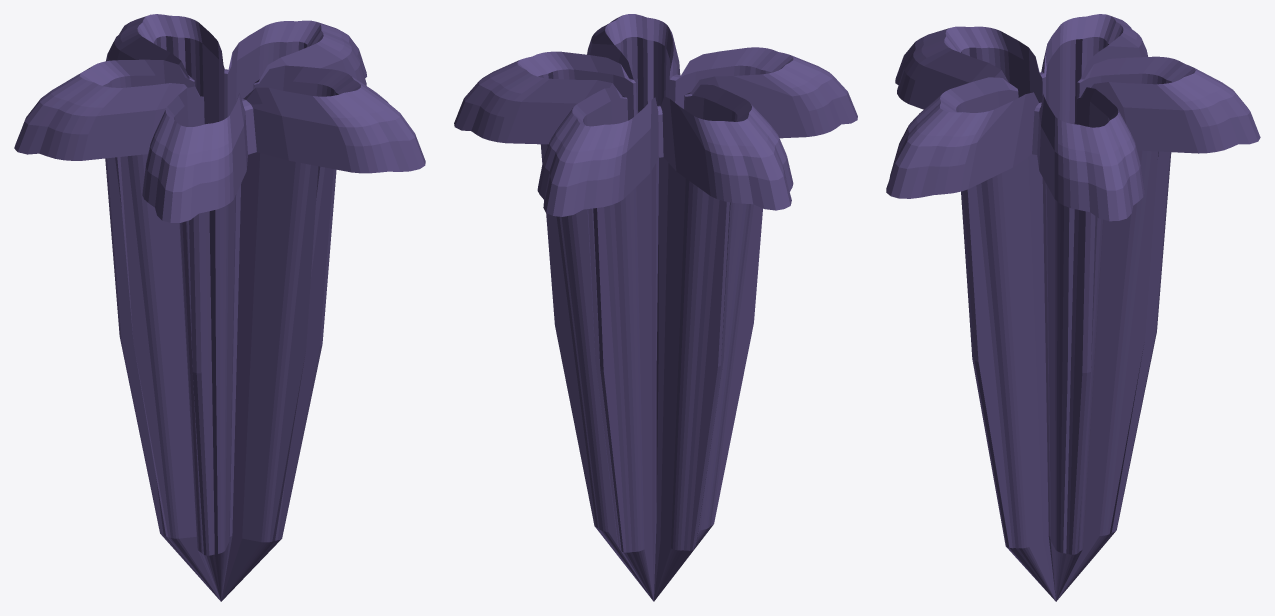
File: Jacarandá_Violeta.fbx
3 renders of one model, left to right at view 1: azimuth 30°, elevation 25°; view 2: azimuth 150°, elevation 25°; view 3: azimuth 270°, elevation 25°, orthographic.
Visible parts, largest first — view 1: Flor de jacarandá _Violeta; view 2: Flor de jacarandá _Violeta; view 3: Flor de jacarandá _Violeta.
Part boxes in pixels (box(x1,y1,x2,y2)): Flor de jacarandá _Violeta: box(14, 14, 425, 601); Flor de jacarandá _Violeta: box(454, 14, 857, 601); Flor de jacarandá _Violeta: box(886, 14, 1260, 601).
Size of the model in its own units: 85.19 by 127 by 81.07.
